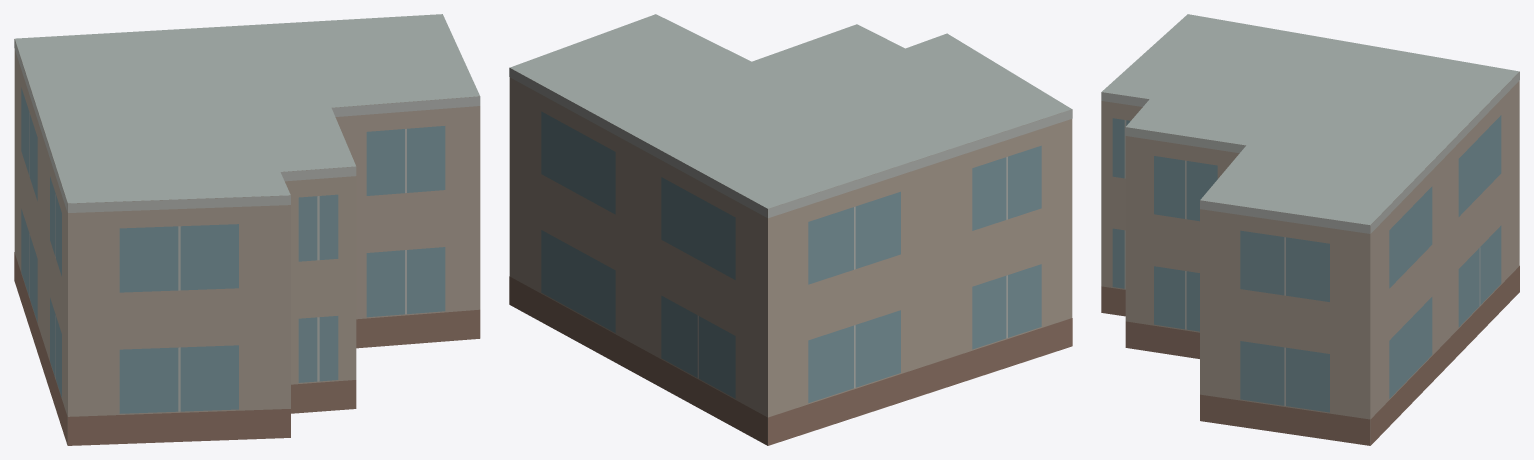
The model's file is survey-upis-32496806.glb.
3 views of the same model, side by side, from view 1: azimuth 30°, elevation 25°; view 2: azimuth 150°, elevation 25°; view 3: azimuth 270°, elevation 25° (orthographic). The views are drawn at different scales.
Parts seen in each view (by area): view 1: survey-upis-32496806.tmp; view 2: survey-upis-32496806.tmp; view 3: survey-upis-32496806.tmp.
Boxes of the visible parts, <box> form: survey-upis-32496806.tmp: <box>14,14,480,445</box>; survey-upis-32496806.tmp: <box>509,14,1072,445</box>; survey-upis-32496806.tmp: <box>1101,14,1519,445</box>.
Size of the model in its own units: 12.53 by 6.1 by 10.49.
